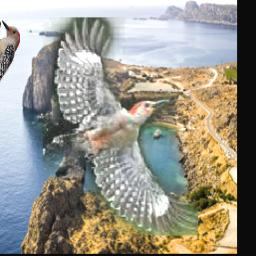Woodpecker: (43, 18, 198, 236), (0, 21, 20, 88)
